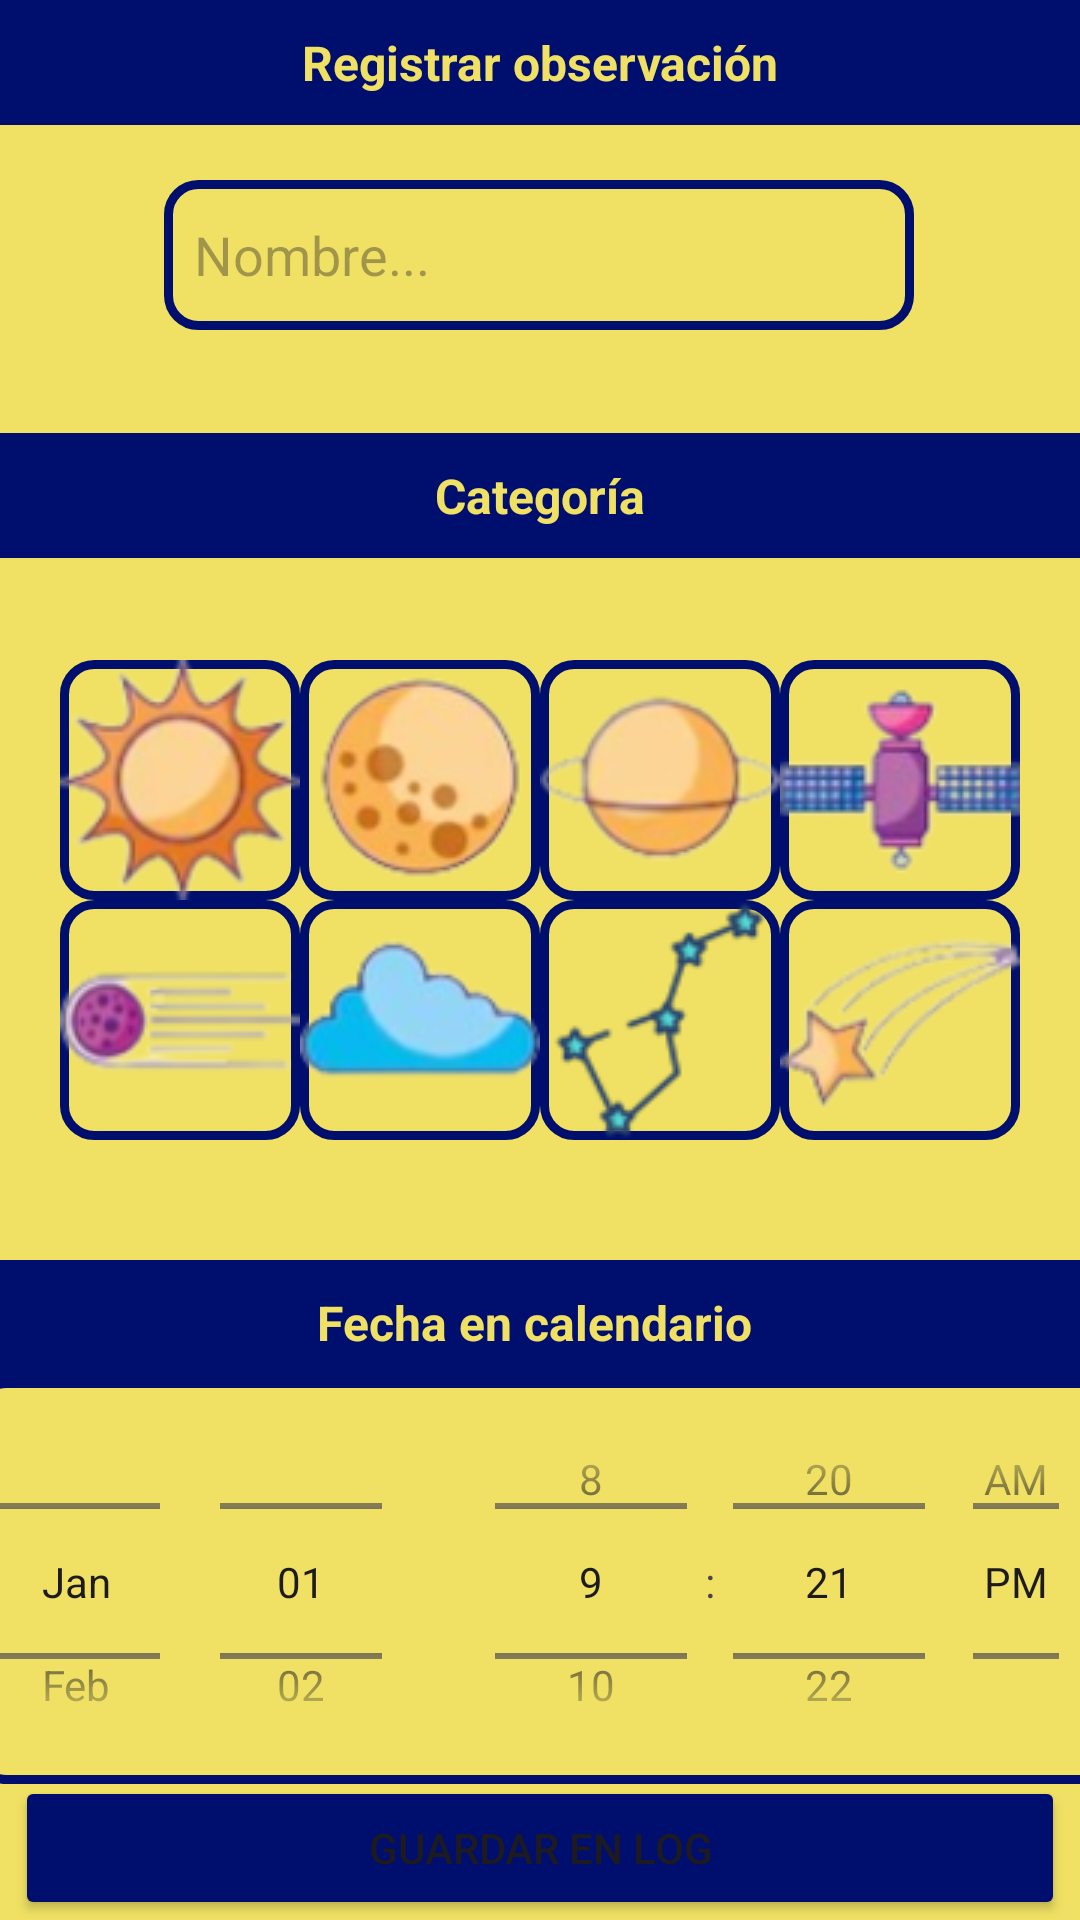

Icons on this 1080px x 1920px Android screen, each with the point to tap as [x,y]:
cometa: [180,1020]
constellation: [660,1020]
estrella fugaz: [900,1020]
luna: [420,780]
nube cosmica: [420,1020]
planeta: [660,780]
satelite: [900,780]
